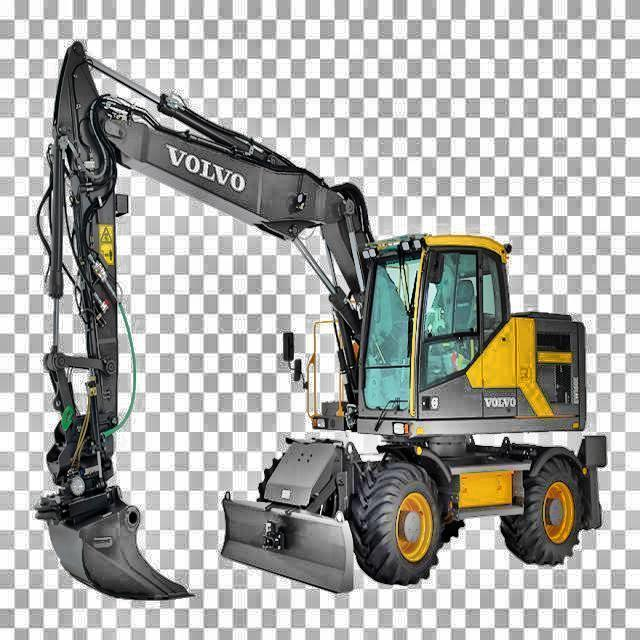excavator: (33, 36, 612, 601)
